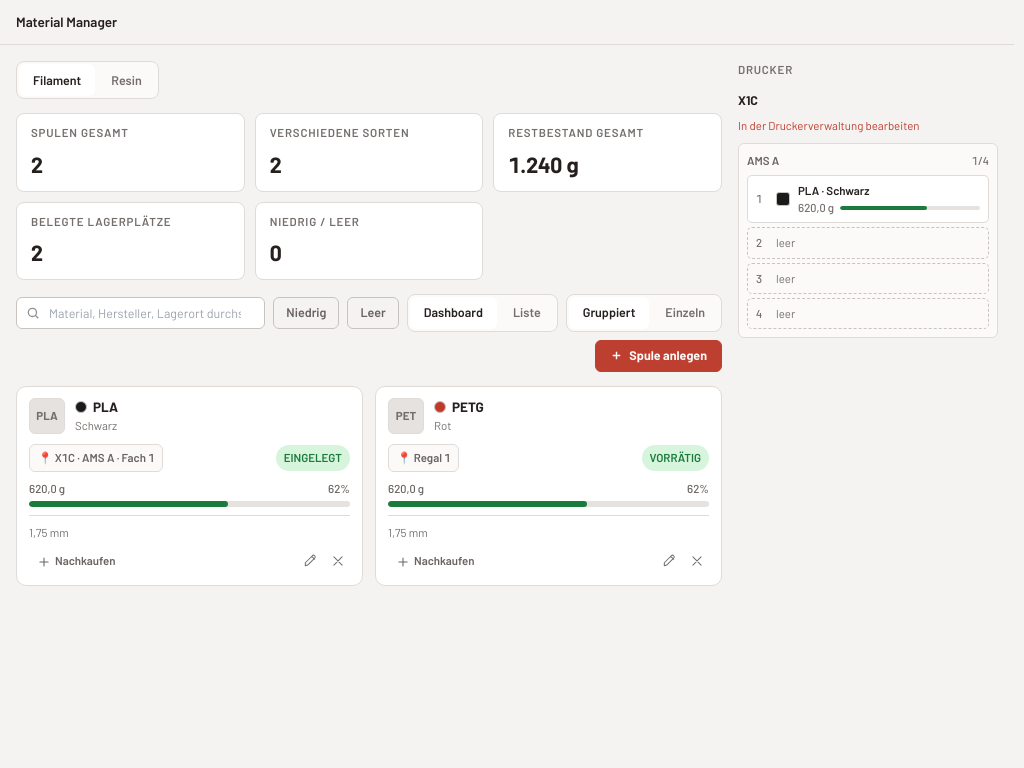
Test case: FilamentView with printers › shows only filament by default and switches to resin with its own stats
Expected: the element with test id "spool-card-store" is shown, [375, 386, 722, 586]
Expected: the text "2" below "Spulen gesamt" is shown, [31, 150, 43, 176]
Click the button "Resin": (126, 80) [97, 64, 156, 96]
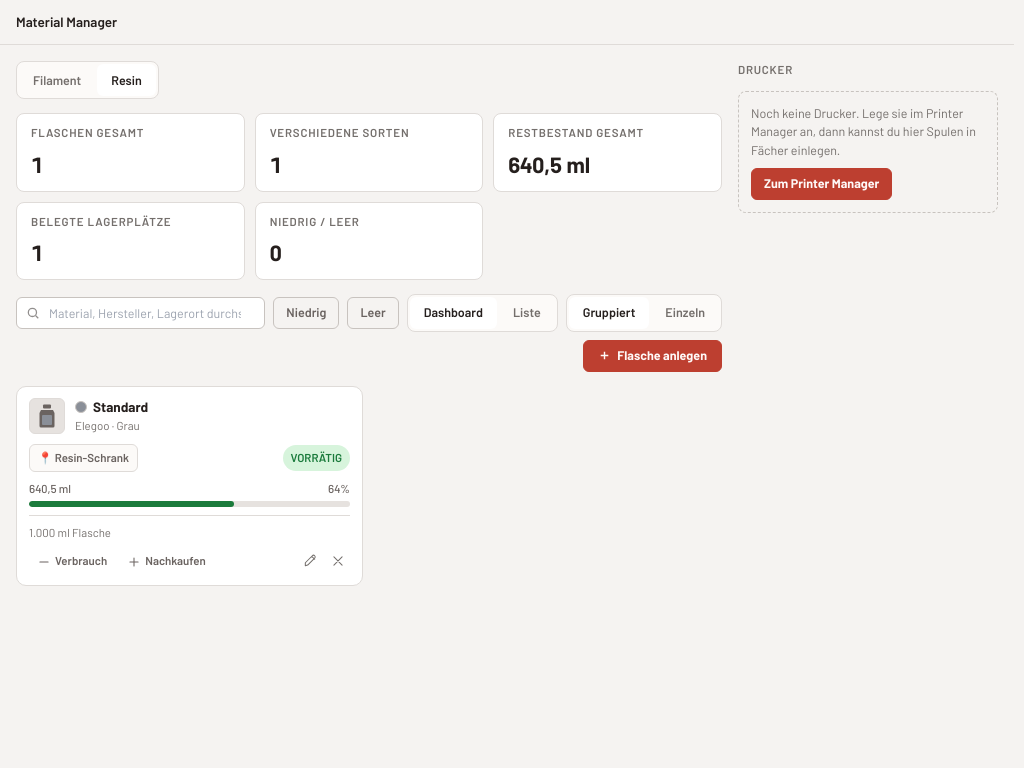
Expected: the element with test id "spool-card-resin1" is shown, [16, 386, 363, 586]
Expected: the element with test id "spool-card-store" is gone
Expected: the text "1" below "Flaschen gesamt" is shown, [31, 150, 43, 176]
